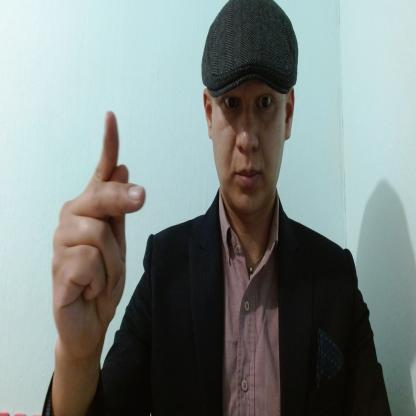P: (50, 106, 149, 358)
